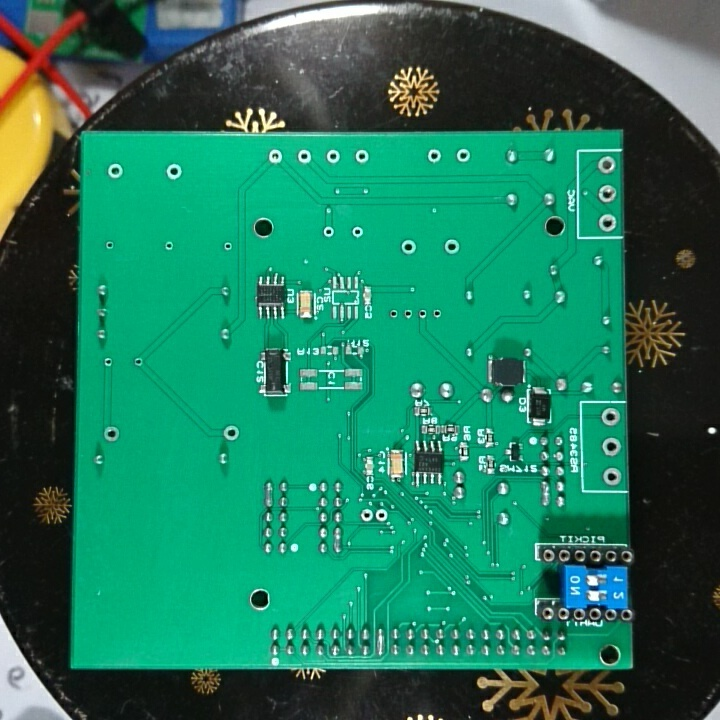F: (596, 212, 619, 235), (599, 406, 621, 429), (600, 435, 620, 459), (597, 182, 616, 206), (596, 154, 616, 176), (601, 464, 621, 486), (453, 146, 475, 166), (399, 236, 419, 258), (221, 423, 242, 443), (105, 162, 126, 182), (163, 163, 184, 183), (441, 237, 461, 258), (101, 424, 121, 443), (325, 146, 343, 167), (296, 146, 313, 166), (353, 147, 371, 165), (426, 147, 444, 165), (373, 506, 392, 523), (267, 148, 284, 165), (319, 224, 337, 240), (357, 507, 374, 523), (428, 306, 444, 323), (349, 223, 364, 240), (161, 238, 176, 254), (131, 354, 146, 369), (386, 306, 400, 322), (221, 238, 234, 254), (101, 355, 115, 369), (102, 237, 116, 251), (401, 306, 413, 322), (417, 306, 428, 323)
P: (261, 480, 278, 507), (330, 525, 345, 555), (374, 624, 387, 658), (539, 478, 551, 509)
